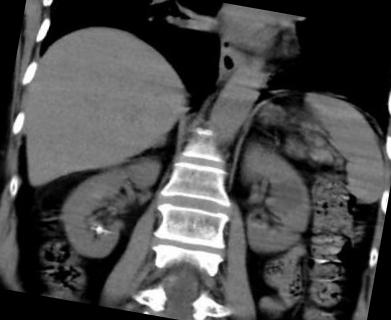Tas_Var: (93, 225, 103, 233)
